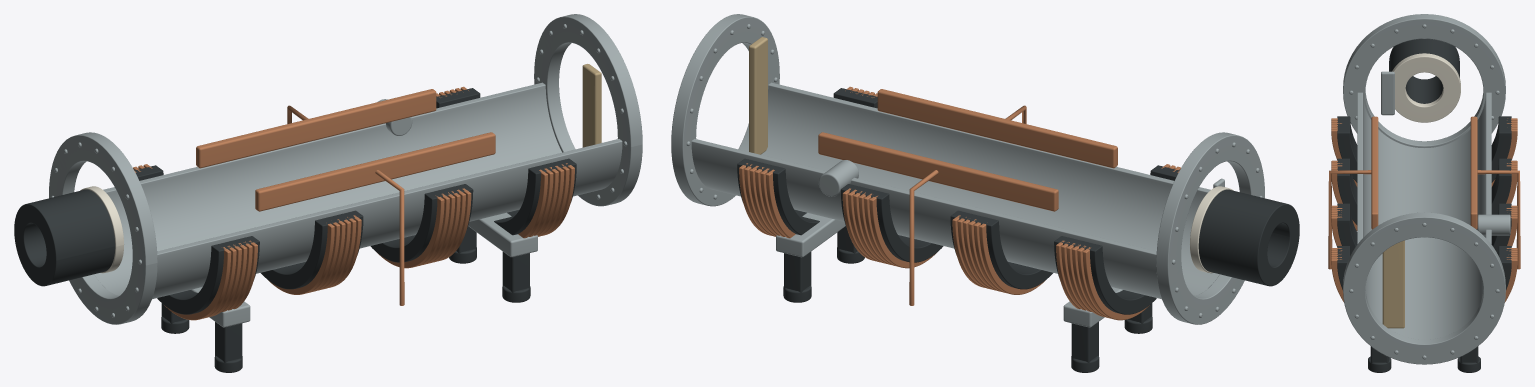
File: icr.glb
The picture shows the model from 3 angles, left to right: view 1: azimuth 30°, elevation 25°; view 2: azimuth 150°, elevation 25°; view 3: azimuth 270°, elevation 25°; orthographic projection. The views are drawn at different scales.
Visible parts, largest first — view 1: Cutaway vacuum column, Vacuum flange.001, Vacuum flange, Source body, RF electrode segment.001, RF electrode segment, Solenoid former.001, Solenoid former, Solenoid former.002, Solenoid former.003, Radial collector rail, Support saddle.001 (+9 smaller); view 2: Cutaway vacuum column, Vacuum flange.001, Source body, Vacuum flange, RF electrode segment, RF electrode segment.001, Solenoid former.001, Radial collector rail, Solenoid former, Solenoid former.002, Solenoid former.003, Support saddle.001 (+10 smaller); view 3: Cutaway vacuum column, Vacuum flange, Vacuum flange.001, Source ceramic break, Source body, Radial collector rail, Solenoid former.001, Solenoid former.002, Solenoid former.003, RF electrode segment, RF electrode segment.001, Solenoid former (+12 smaller).
Boxes of the visible parts, x1,y1,x2,y2 form: Cutaway vacuum column: [94, 82, 622, 299]; Vacuum flange.001: [49, 132, 157, 324]; Vacuum flange: [534, 14, 642, 206]; Source body: [14, 189, 115, 286]; RF electrode segment.001: [196, 89, 436, 168]; RF electrode segment: [255, 132, 495, 211]; Solenoid former.001: [134, 165, 259, 314]; Solenoid former: [436, 88, 576, 235]; Solenoid former.002: [261, 210, 363, 289]; Solenoid former.003: [370, 184, 473, 262]; Radial collector rail: [582, 64, 601, 147]; Support saddle.001: [468, 212, 537, 257]; Cutaway vacuum column: [691, 82, 1219, 299]; Vacuum flange.001: [1156, 132, 1264, 324]; Source body: [1198, 189, 1299, 286]; Vacuum flange: [671, 14, 779, 206]; RF electrode segment: [877, 89, 1117, 168]; RF electrode segment.001: [818, 132, 1058, 211]; Solenoid former.001: [1054, 165, 1179, 314]; Radial collector rail: [749, 37, 767, 154]; Solenoid former: [737, 88, 877, 235]; Solenoid former.002: [950, 210, 1052, 289]; Solenoid former.003: [840, 184, 943, 262]; Support saddle.001: [776, 212, 845, 257]; Cutaway vacuum column: [1357, 92, 1491, 339]; Vacuum flange: [1343, 212, 1505, 364]; Vacuum flange.001: [1343, 14, 1505, 147]; Source ceramic break: [1392, 53, 1460, 122]; Source body: [1389, 39, 1459, 103]; Radial collector rail: [1382, 240, 1404, 328]; Solenoid former.001: [1337, 116, 1511, 182]; Solenoid former.002: [1337, 158, 1511, 224]; Solenoid former.003: [1337, 203, 1511, 254]; RF electrode segment: [1371, 116, 1378, 229]; RF electrode segment.001: [1470, 116, 1477, 229]; Solenoid former: [1337, 246, 1511, 289].
Size of the model in its own units: 4.6 by 1.82 by 1.63.
